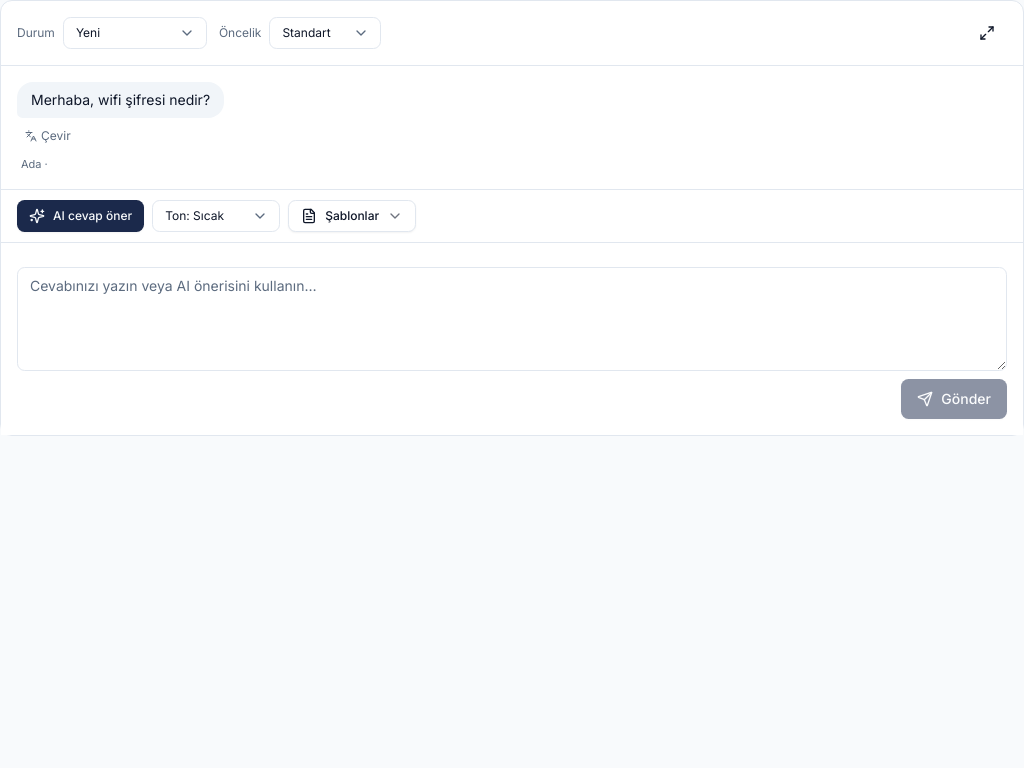
it: ConversationThread — şablon açılır yüzeyi dialog sözleşmesi › Escape kapatır ve odağı TETİKLEYİCİYE geri verir
Click the button "Şablonlar". click: coordinates (352, 216)
box: top-left (288, 200), bottom-right (416, 232)
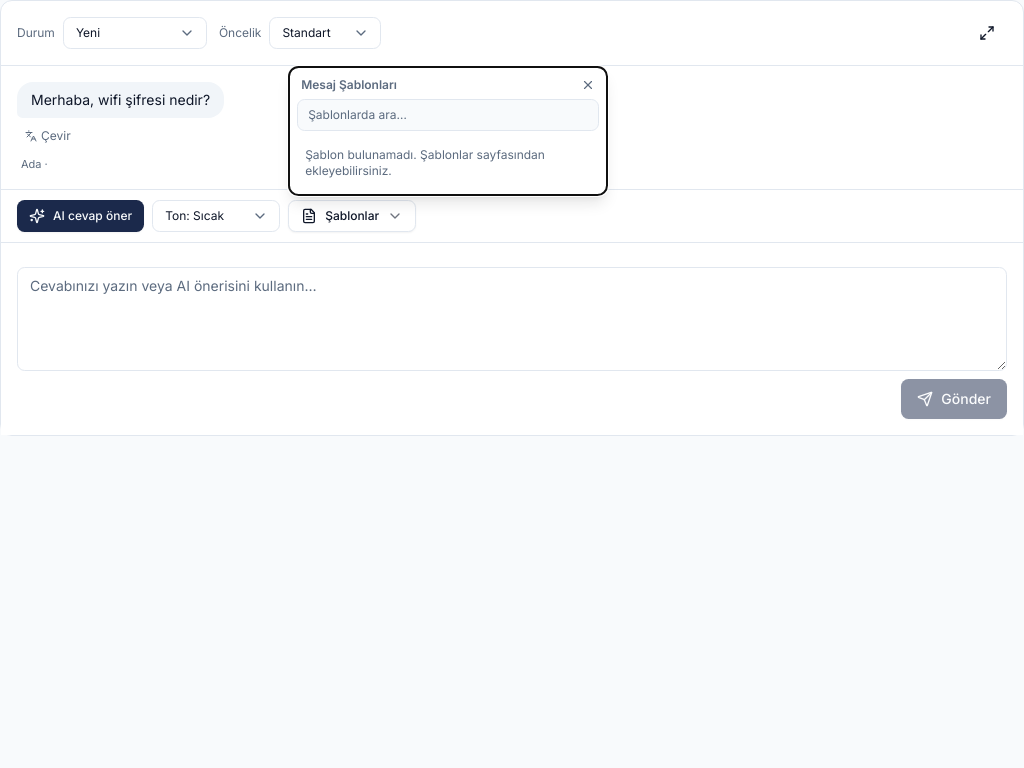
Expected: the dialog is shown, top-left (288, 66), bottom-right (608, 196)
Press Escape
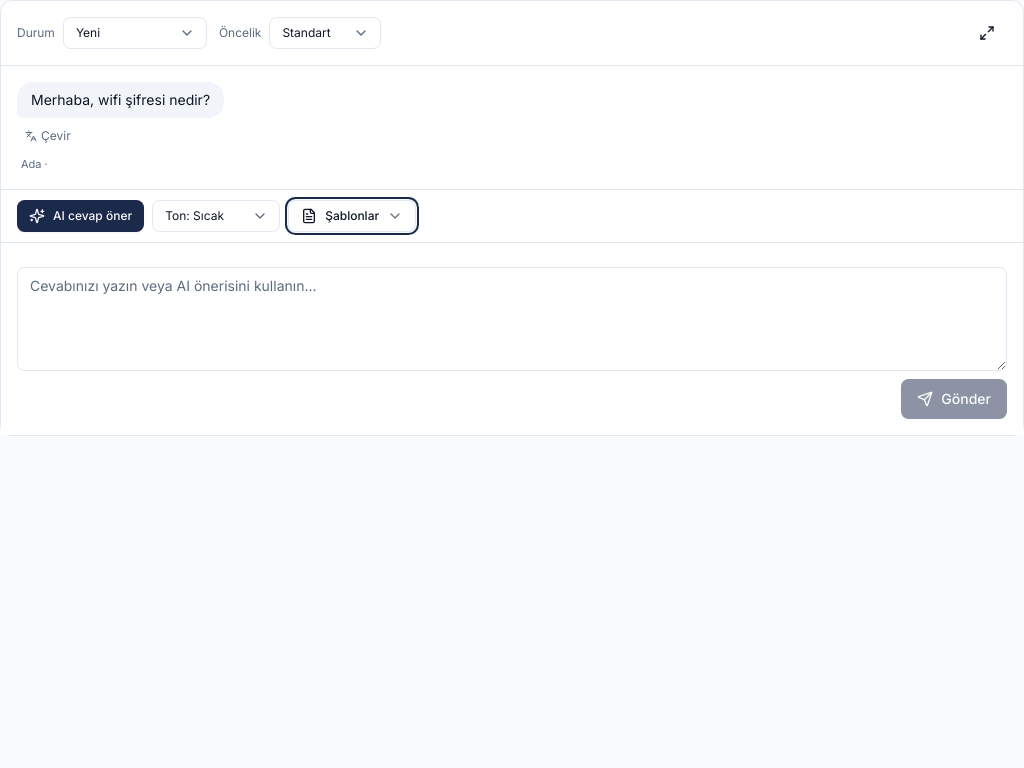
Expected: the dialog is gone
